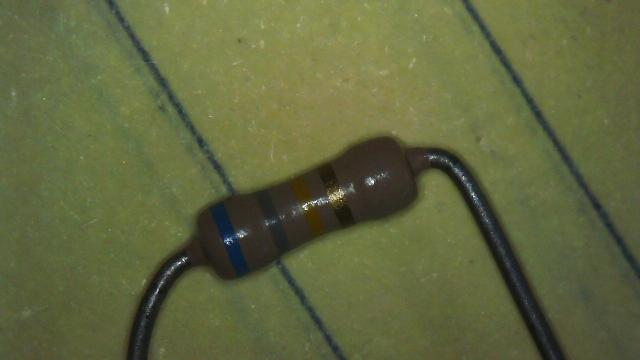blue: (210, 202, 249, 278)
gold: (318, 163, 354, 228)
grey: (256, 188, 290, 254)
resistor: (151, 103, 450, 315)
yellow: (290, 175, 326, 237)
